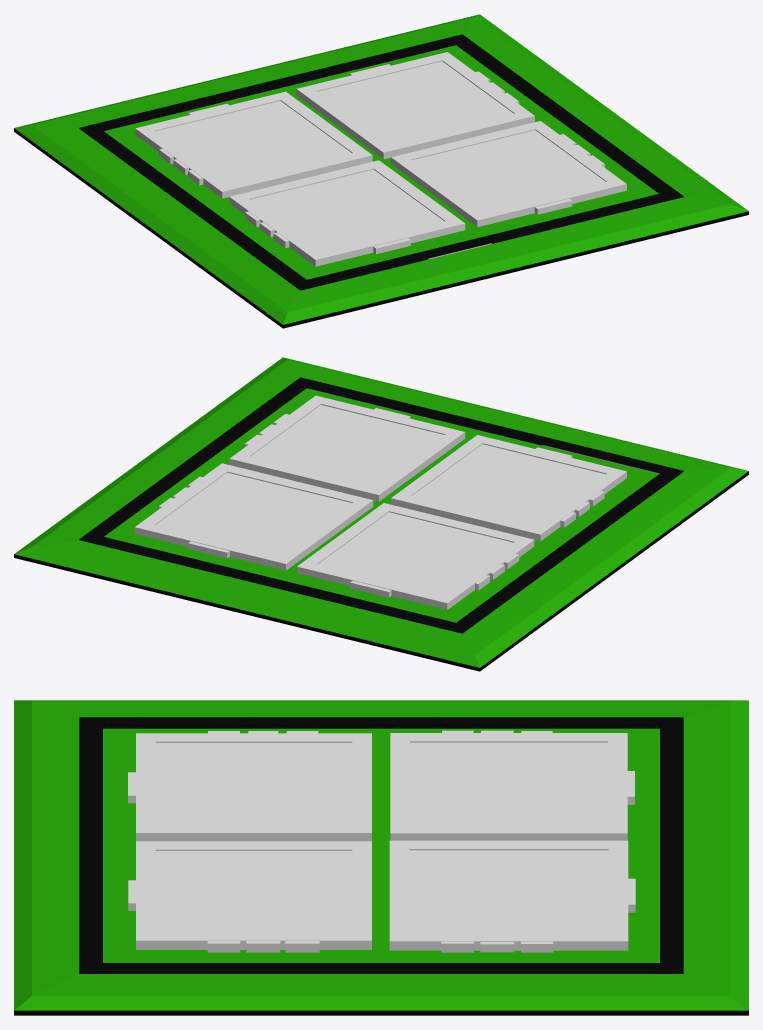
The model's file is Processador.fbx.
The picture shows the model from 3 angles, top to bottom: view 1: azimuth 30°, elevation 25°; view 2: azimuth 150°, elevation 25°; view 3: azimuth 270°, elevation 25°; orthographic projection. The views are drawn at different scales.
Parts seen in each view (by area): view 1: Cube; view 2: Cube; view 3: Cube.
Part boxes in pixels (box(x1,y1,x2,y2)): Cube: box(14, 14, 748, 328); Cube: box(14, 357, 748, 671); Cube: box(14, 700, 748, 1015).
Size of the model in its own units: 858 by 39.25 by 858.
